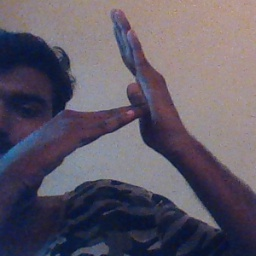Z: (74, 7, 182, 161)
